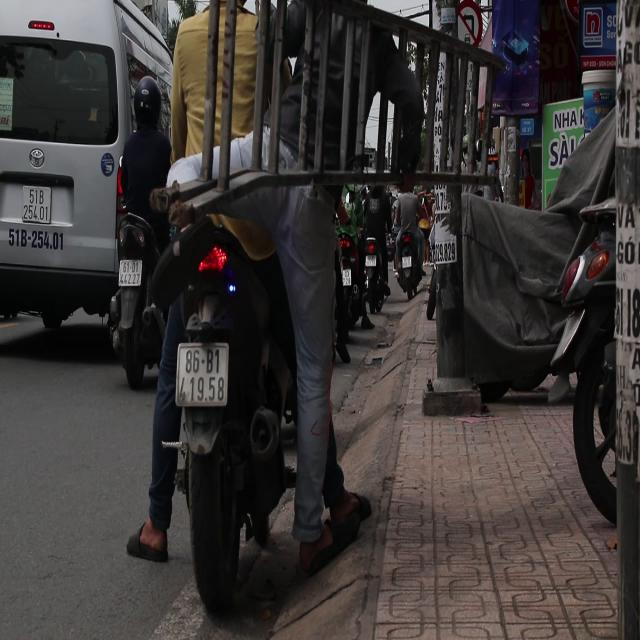car: (0, 0, 160, 348)
motorbike: (129, 213, 303, 602), (98, 212, 158, 418), (389, 187, 427, 299), (334, 218, 362, 356)
